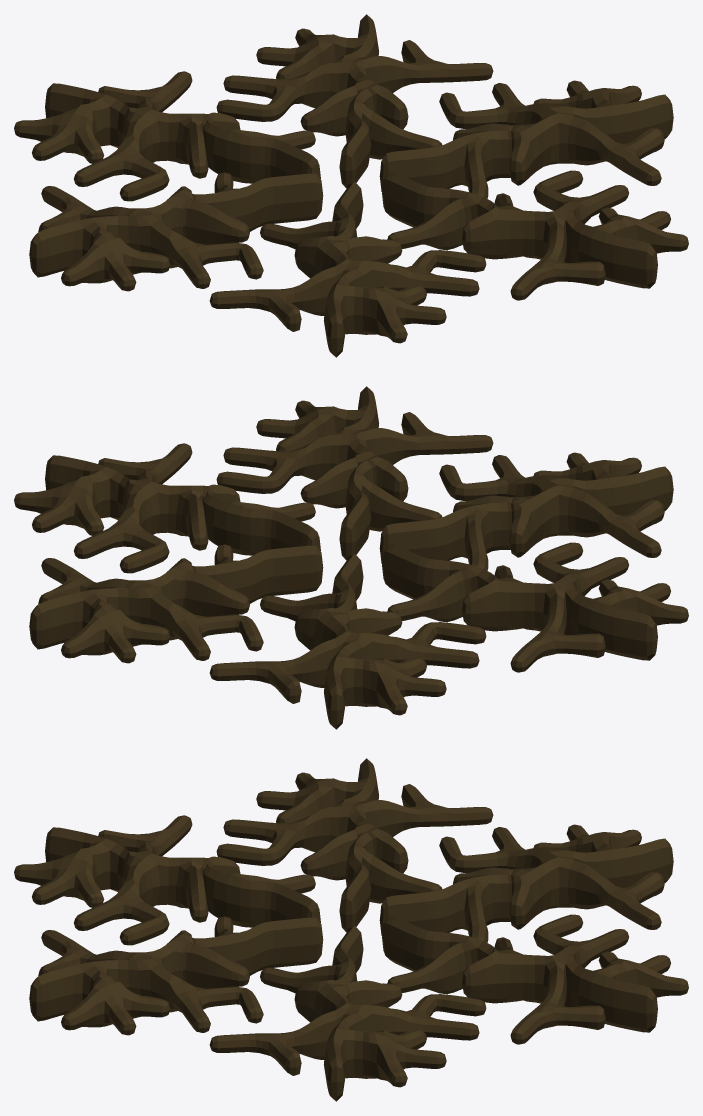
File: Racines_V2.fbx
3 views of the same model, one above another, from view 1: azimuth 30°, elevation 25°; view 2: azimuth 150°, elevation 25°; view 3: azimuth 270°, elevation 25° (orthographic).
Visible parts, largest first — view 1: Racine2; view 2: Racine2; view 3: Racine2.
Part boxes in pixels (x1,y1,x2,y2): Racine2: [14, 14, 688, 357]; Racine2: [14, 386, 688, 729]; Racine2: [14, 758, 688, 1101].
Bounding box in the file's own units: 543 × 43.54 × 507.
